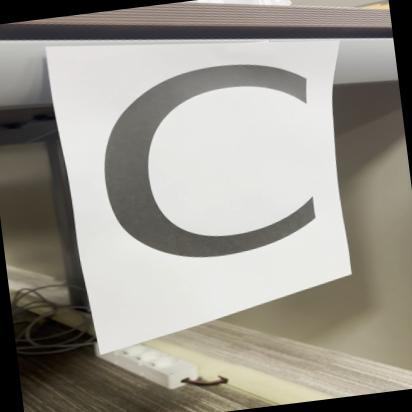seat: (55, 6, 355, 327)
